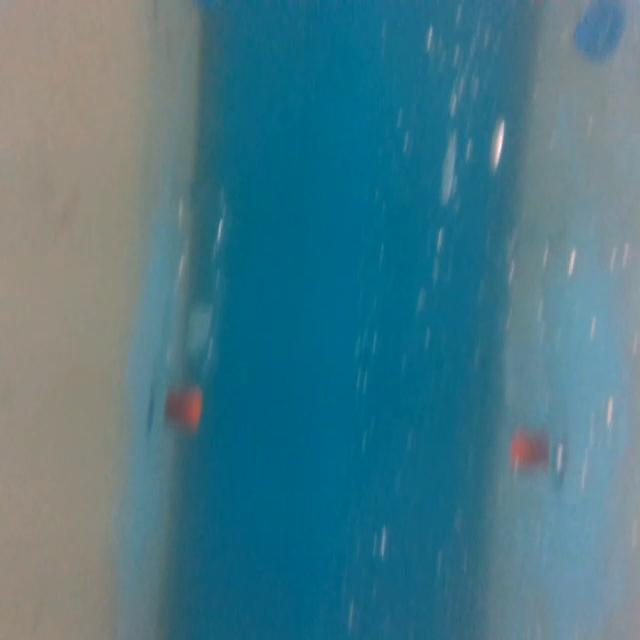plastic bottle: (161, 176, 236, 437)
